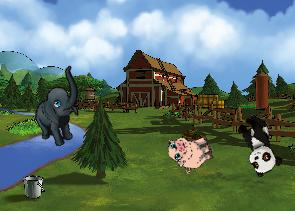elephant: (20, 65, 99, 151)
panda: (231, 111, 285, 178)
pig: (164, 126, 217, 176)
